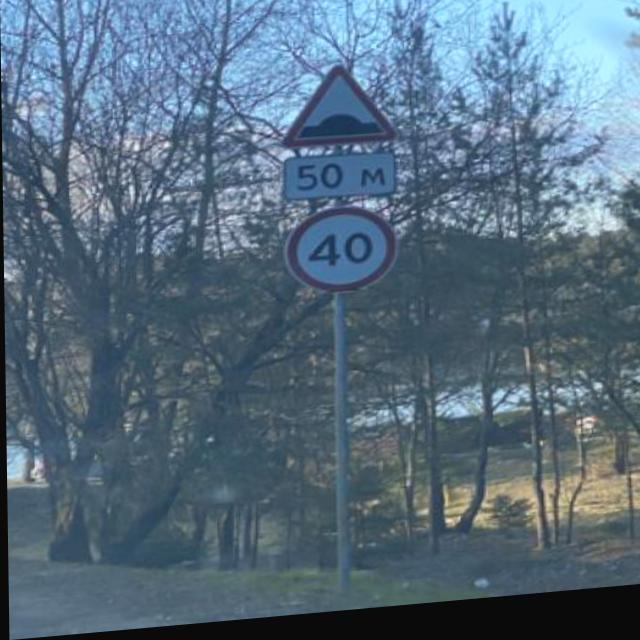limit40: (278, 205, 402, 310)
